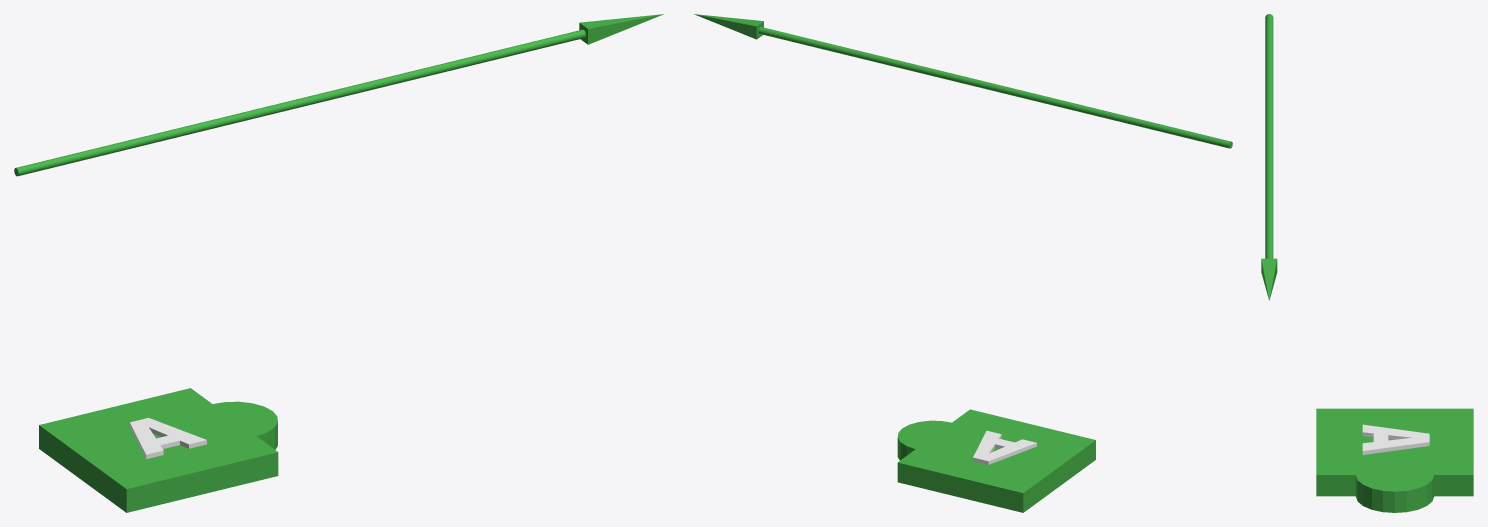
Rendered from tinker.obj.
The picture shows the model from 3 angles, left to right: view 1: azimuth 30°, elevation 25°; view 2: azimuth 150°, elevation 25°; view 3: azimuth 270°, elevation 25°; orthographic projection. The views are drawn at different scales.
Parts seen in each view (by area): view 1: group_0_4634441, group_0_16448250; view 2: group_0_4634441, group_0_16448250; view 3: group_0_4634441, group_0_16448250.
Part boxes in pixels (x1,y1,x2,y2): group_0_4634441: (14, 14, 663, 512); group_0_16448250: (130, 418, 206, 459); group_0_4634441: (694, 14, 1232, 512); group_0_16448250: (973, 430, 1036, 464); group_0_4634441: (1261, 14, 1473, 512); group_0_16448250: (1362, 424, 1429, 454).
Size of the model in its own units: 85.5 by 51 by 27.
